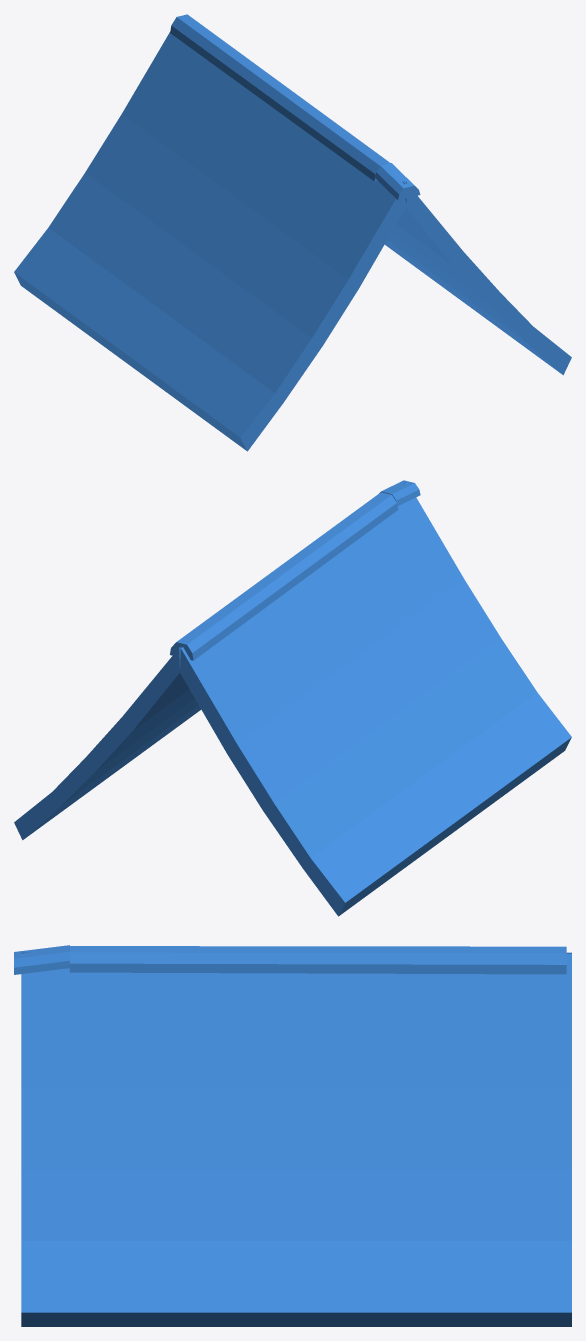
File: Collision_Roof_RoundTiles_8x10.fbx
3 renders of one model, top to bottom at view 1: azimuth 30°, elevation 25°; view 2: azimuth 150°, elevation 25°; view 3: azimuth 270°, elevation 25°, orthographic. The views are drawn at different scales.
Visible parts, largest first — view 1: UCX_Roof_RoundTiles_8x10_01; view 2: UCX_Roof_RoundTiles_8x10_01; view 3: UCX_Roof_RoundTiles_8x10_01.
Boxes of the visible parts, bbox=[...] form: UCX_Roof_RoundTiles_8x10_01: bbox=[14, 14, 571, 451]; UCX_Roof_RoundTiles_8x10_01: bbox=[14, 480, 571, 916]; UCX_Roof_RoundTiles_8x10_01: bbox=[14, 945, 571, 1326].
Size of the model in its own units: 996 by 674 by 1195.
